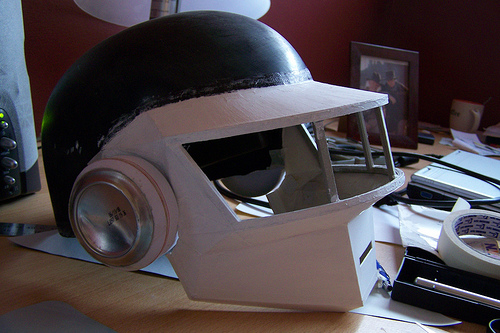helmet: (35, 32, 415, 289)
